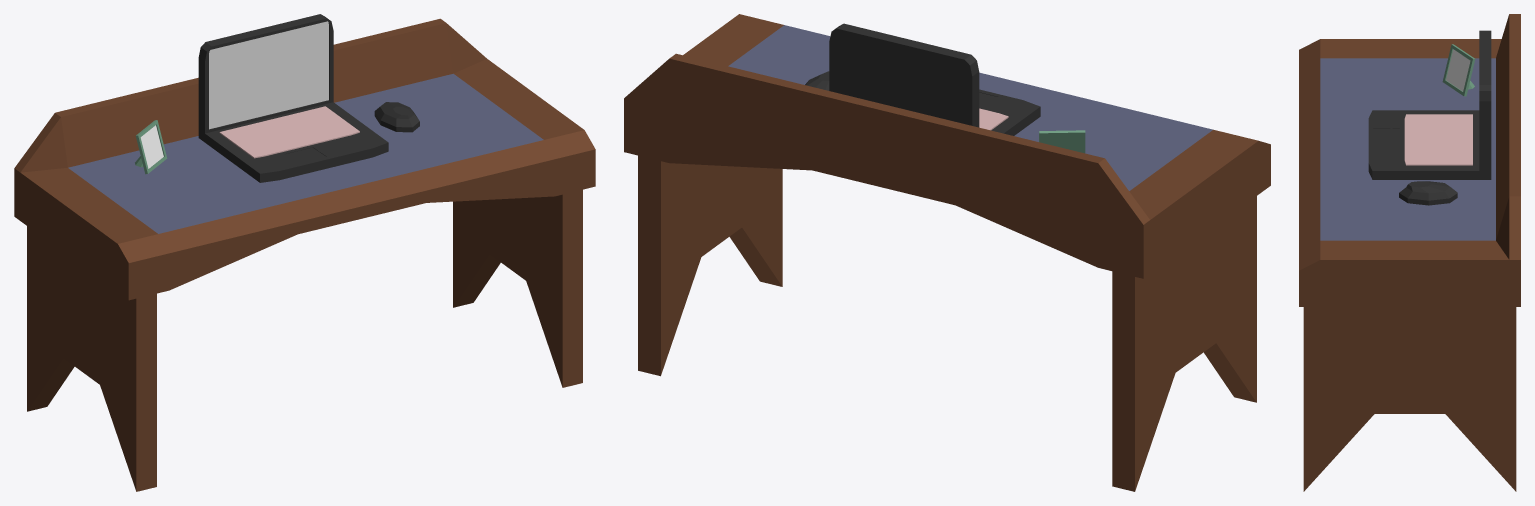
Rendered from Desk.fbx.
3 renders of one model, left to right at view 1: azimuth 30°, elevation 25°; view 2: azimuth 150°, elevation 25°; view 3: azimuth 270°, elevation 25°, orthographic. The views are drawn at different scales.
Parts seen in each view (by area): view 1: Desk, Laptop, Photo, Mouse; view 2: Desk, Laptop, Photo; view 3: Desk, Laptop, Mouse, Photo.
Part boxes in pixels (bbox=[...]): Desk: bbox=[14, 18, 595, 491]; Laptop: bbox=[198, 14, 388, 182]; Photo: bbox=[135, 120, 167, 174]; Mouse: bbox=[374, 102, 419, 132]; Desk: bbox=[624, 14, 1270, 491]; Laptop: bbox=[829, 23, 1040, 135]; Photo: bbox=[1039, 130, 1085, 153]; Desk: bbox=[1299, 14, 1520, 491]; Laptop: bbox=[1368, 30, 1491, 179]; Mouse: bbox=[1399, 181, 1457, 205]; Photo: bbox=[1442, 44, 1475, 96].
Bounding box in the file's own units: 200 × 139 × 84.94.
